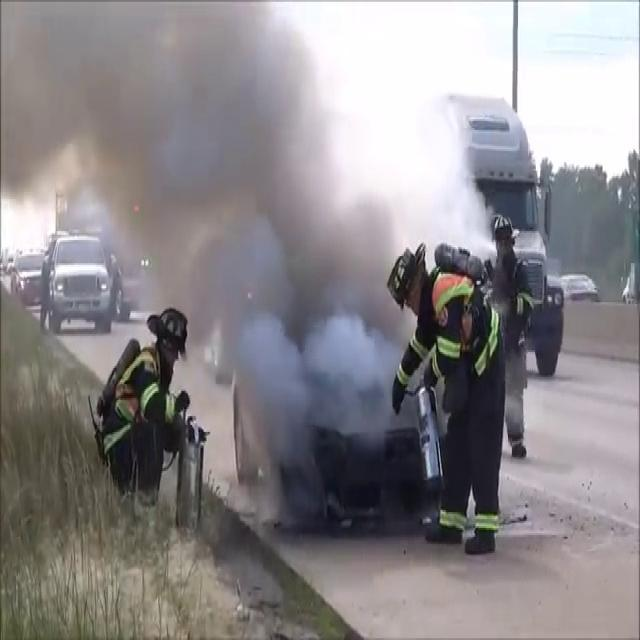Smoke: (2, 0, 470, 411)
